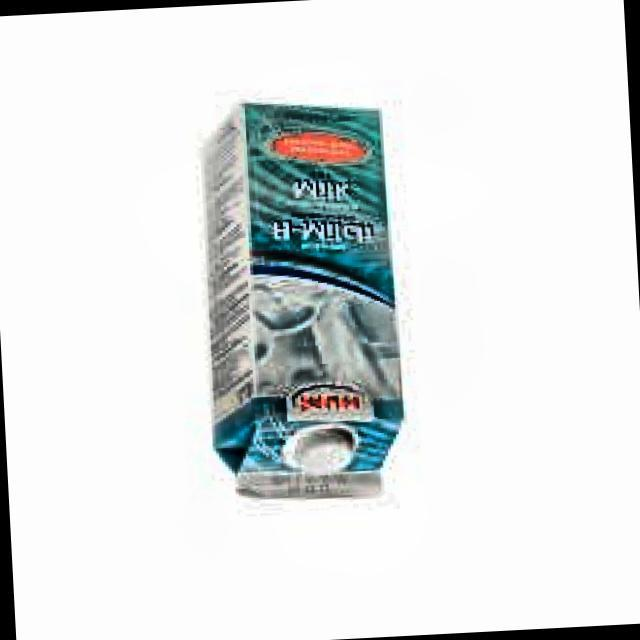cardboard: (192, 98, 408, 509)
